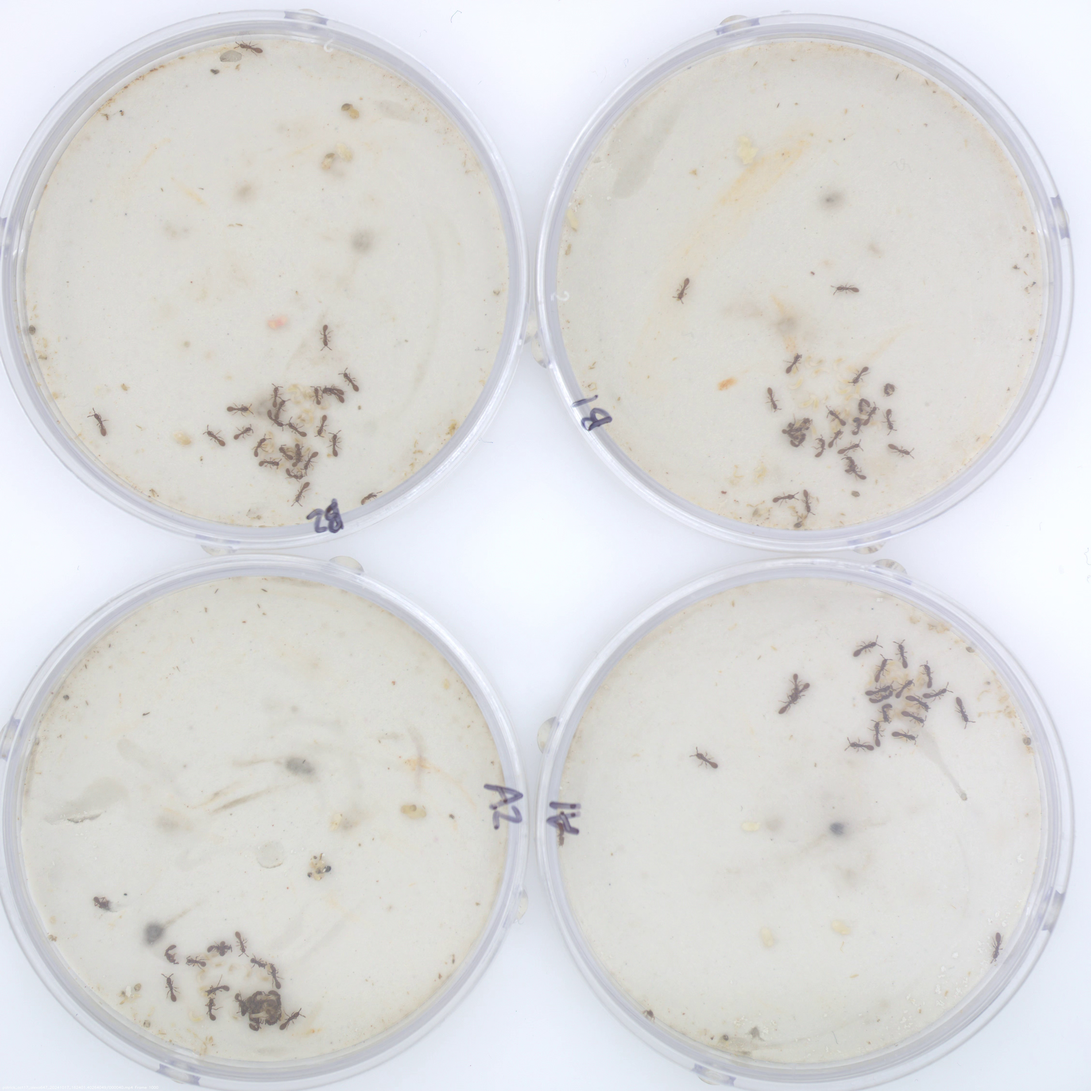brood: (864, 655, 933, 732), (255, 432, 313, 478), (283, 382, 331, 427), (829, 405, 885, 437), (242, 993, 284, 1025), (187, 952, 225, 984), (833, 375, 868, 403), (791, 420, 818, 441), (196, 984, 218, 1005), (785, 353, 802, 377), (799, 394, 819, 413), (804, 354, 826, 368), (788, 374, 806, 390), (833, 355, 846, 373), (810, 367, 831, 378), (227, 962, 242, 976), (257, 968, 272, 982), (821, 385, 832, 404), (189, 1012, 205, 1025), (229, 1006, 242, 1021), (243, 963, 255, 979), (316, 426, 328, 439)
